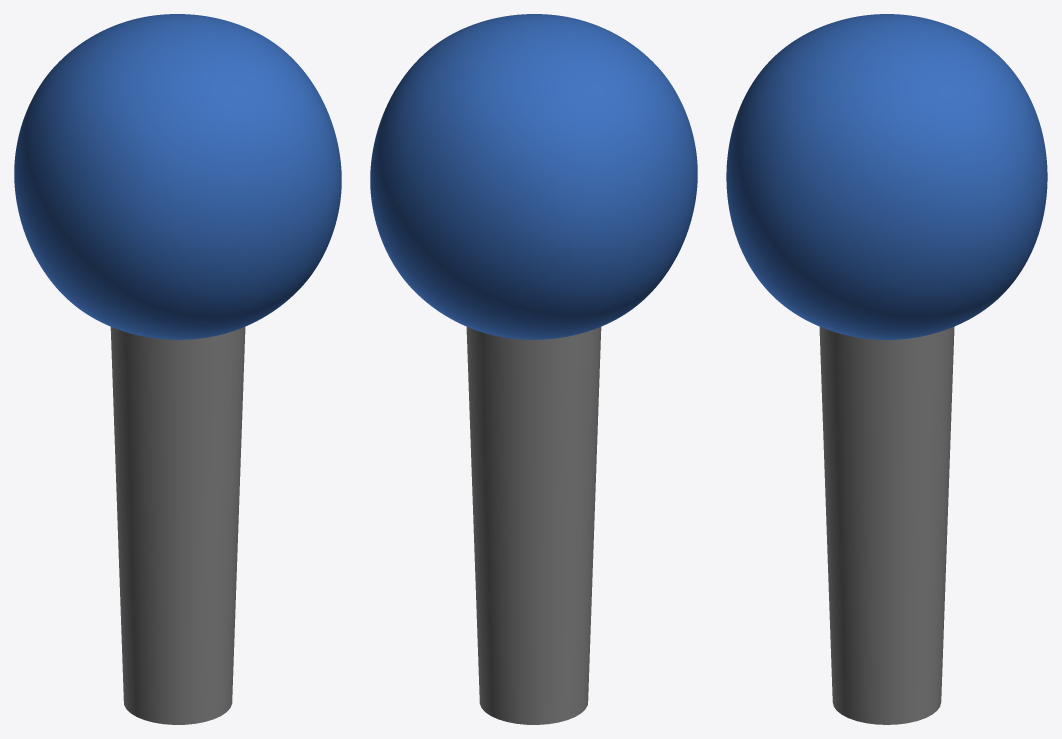
Rendered from Joystick_joined_centered.fbx.
3 views of the same model, side by side, from view 1: azimuth 30°, elevation 25°; view 2: azimuth 150°, elevation 25°; view 3: azimuth 270°, elevation 25° (orthographic).
Parts seen in each view (by area): view 1: stick; view 2: stick; view 3: stick.
Part boxes in pixels (x1=…): stick: x1=14, y1=14, x2=341, y2=724; stick: x1=370, y1=14, x2=697, y2=724; stick: x1=726, y1=14, x2=1047, y2=724.
Bounding box in the file's own units: 11.01 × 25.37 × 11.01.
